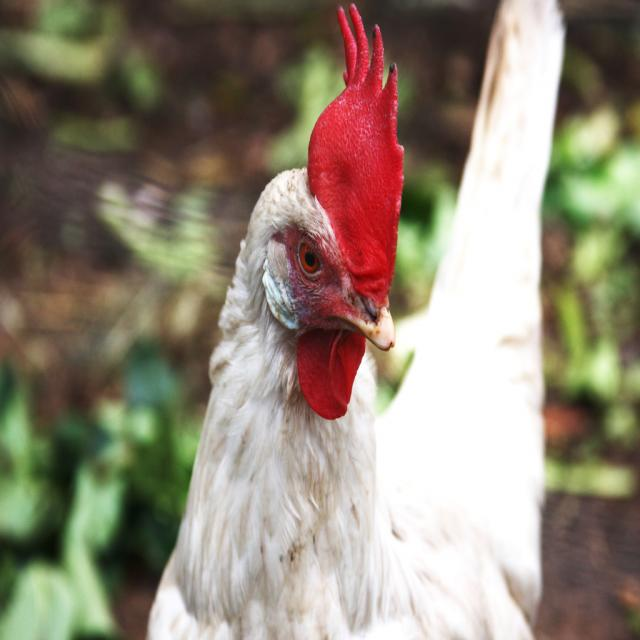Chicken: (147, 0, 566, 640)
